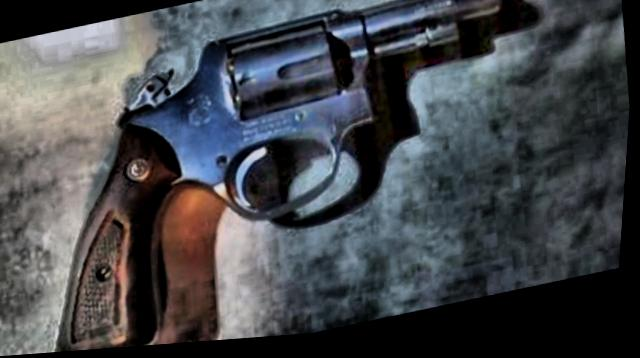pistol: (11, 0, 546, 356)
